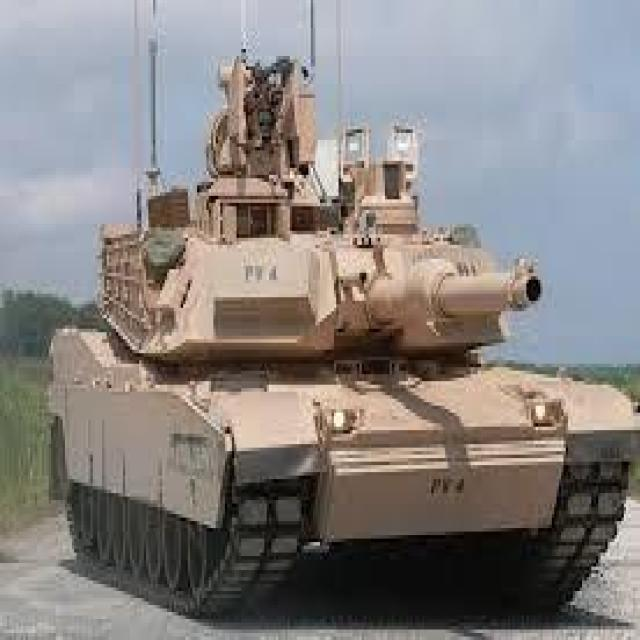Tanks: (49, 52, 635, 616)
